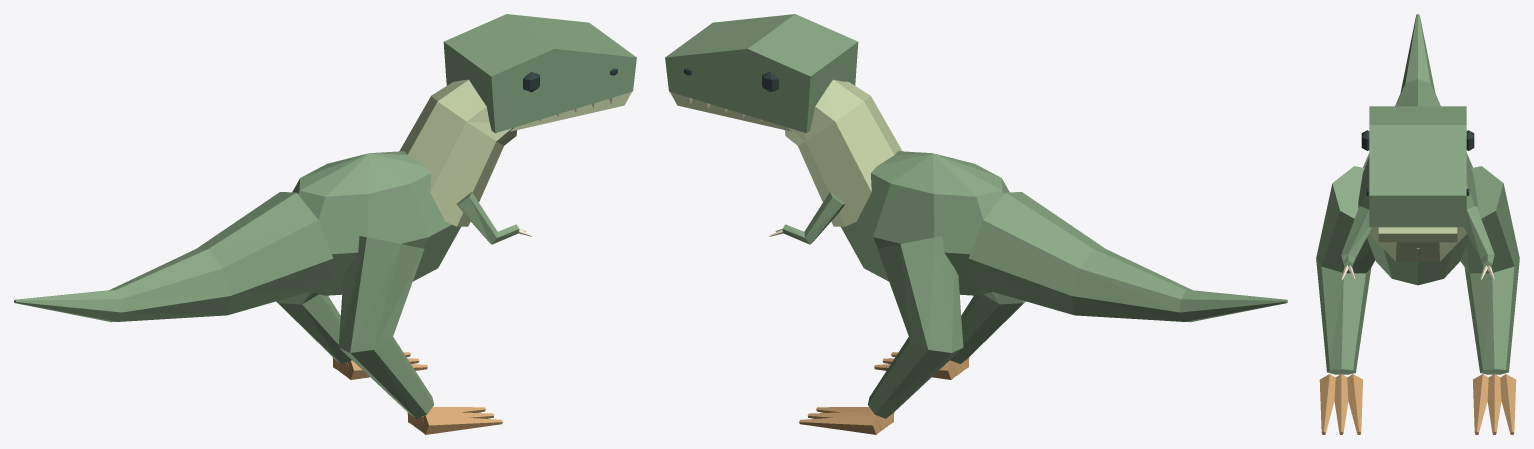
Rendered from tyrannosaurus.04a07177dd68.glb.
3 views of the same model, side by side, from view 1: azimuth 30°, elevation 25°; view 2: azimuth 150°, elevation 25°; view 3: azimuth 270°, elevation 25° (orthographic). The views are drawn at different scales.
Visible parts, largest first — view 1: tyrannosaurus; view 2: tyrannosaurus; view 3: tyrannosaurus.
Boxes of the visible parts, left/top/right/bottom form: tyrannosaurus: left=14, top=14, right=636, bottom=434; tyrannosaurus: left=665, top=14, right=1287, bottom=434; tyrannosaurus: left=1316, top=14, right=1519, bottom=434.
Bounding box in the file's own units: 1 × 0.5431 × 0.2888.
